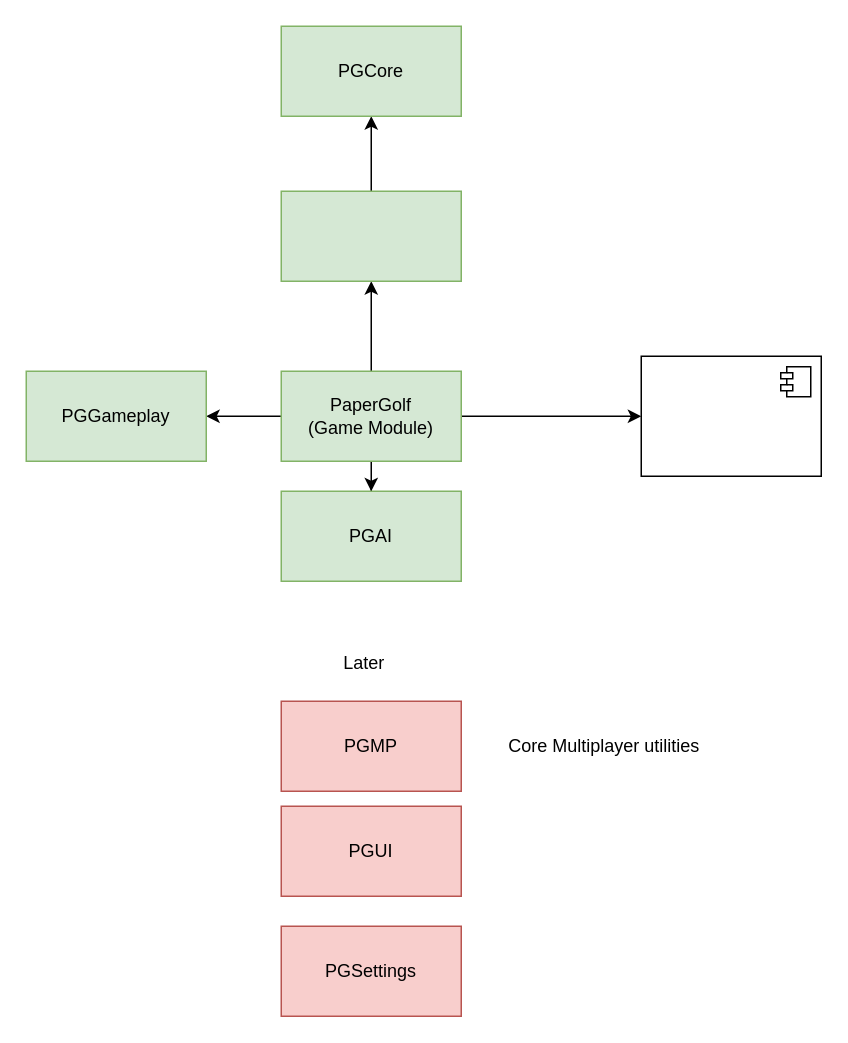
The diagram is 848 pixels wide and 1043 high, and some of its shapes have lost their labels. The shapes that lost their labels are listed below. From the top down, each one's centre as x and y in pixels, then its label:
At (370,235): "PGPlayer".
At (730,415): "Multiplayer Sessions Plugin".
